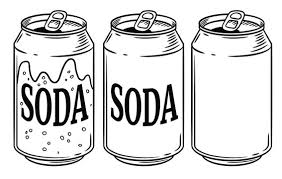can: (13, 10, 273, 167)
